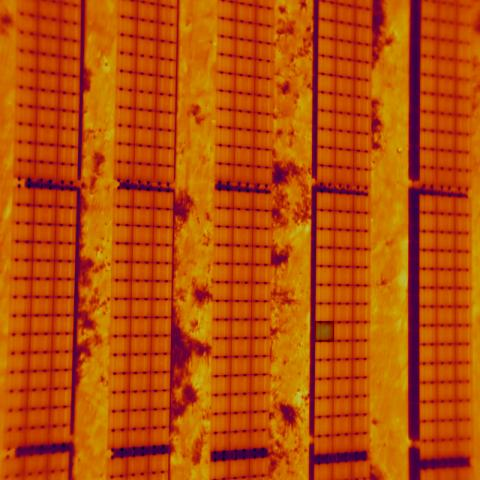fault: (315, 321, 334, 342)
